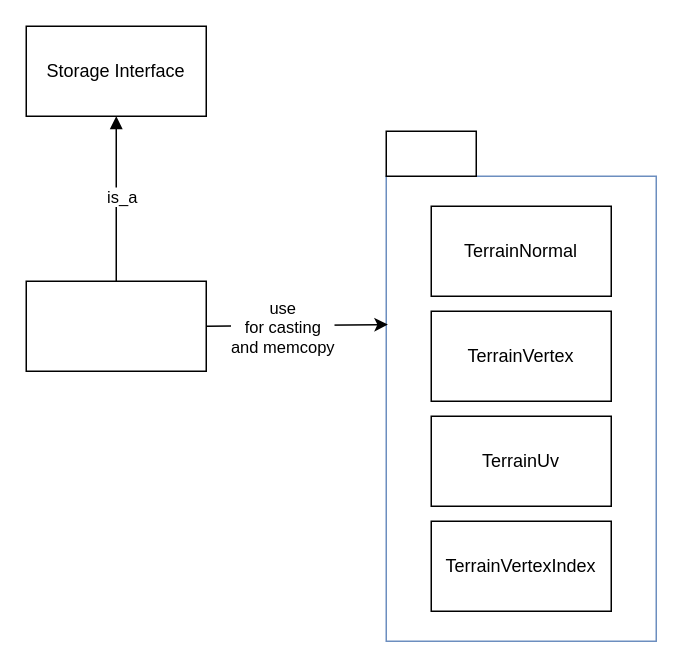
Image size: 683x668. Some labels were removed from this diagram. Each missing label, with the box of its shape:
Storage Interface MeshData: (25, 280, 206, 371)
Structs for MeshData: (385, 130, 476, 176)
